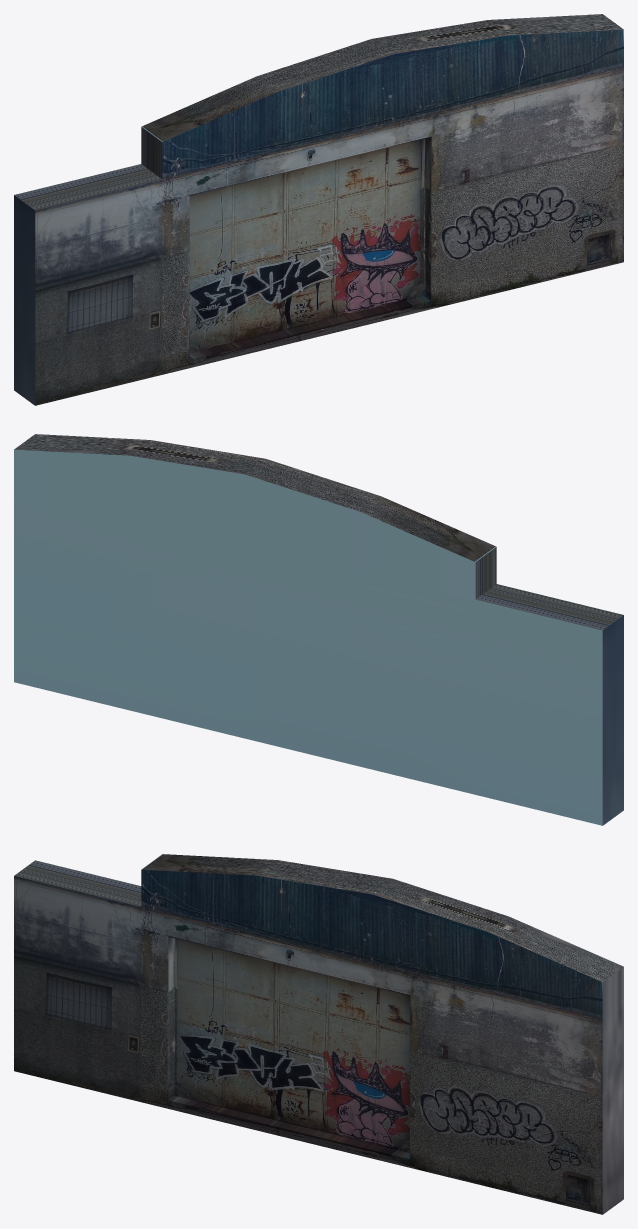
Rendered from PortonEnormeModelo.fbx.
3 views of the same model, one above another, from view 1: azimuth 30°, elevation 25°; view 2: azimuth 150°, elevation 25°; view 3: azimuth 330°, elevation 25° (orthographic).
Visible parts, largest first — view 1: Cube; view 2: Cube; view 3: Cube.
Boxes of the visible parts, bbox=[...] form: Cube: bbox=[14, 14, 623, 405]; Cube: bbox=[14, 434, 623, 825]; Cube: bbox=[14, 854, 623, 1214].
Bounding box in the file's own units: 3204 × 1374 × 200.
